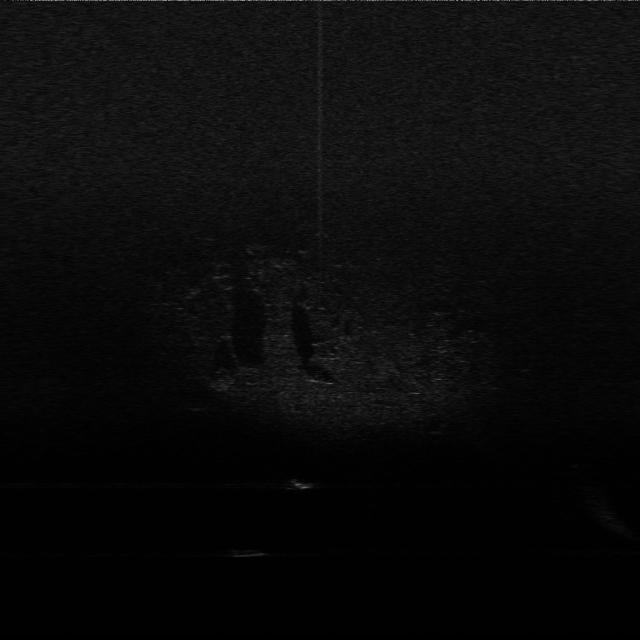cube: (228, 540, 271, 562)
square cage: (286, 473, 320, 493)
